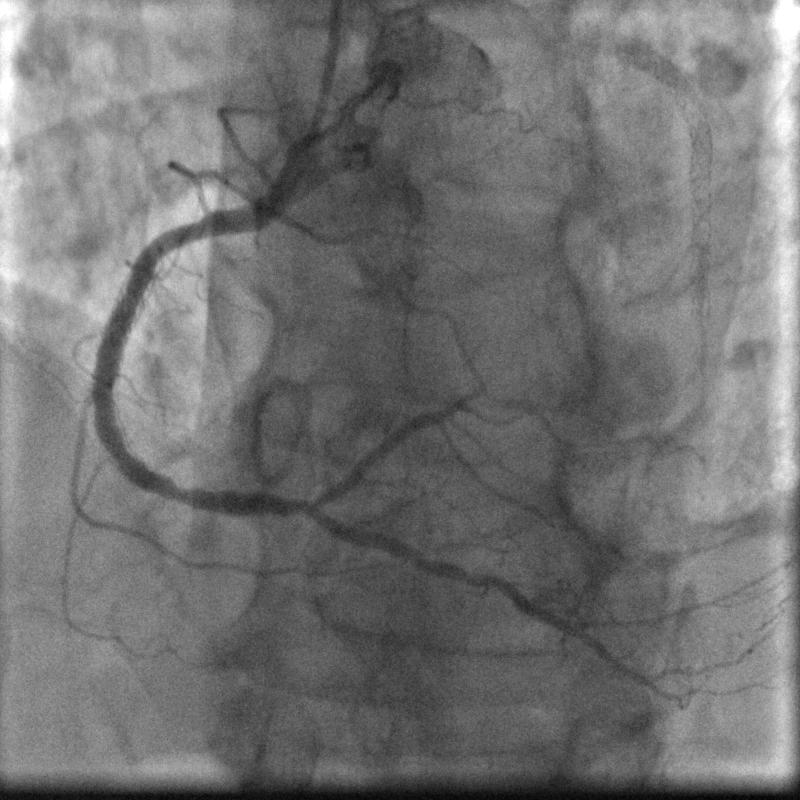Stenosis: (159, 212, 208, 256)
